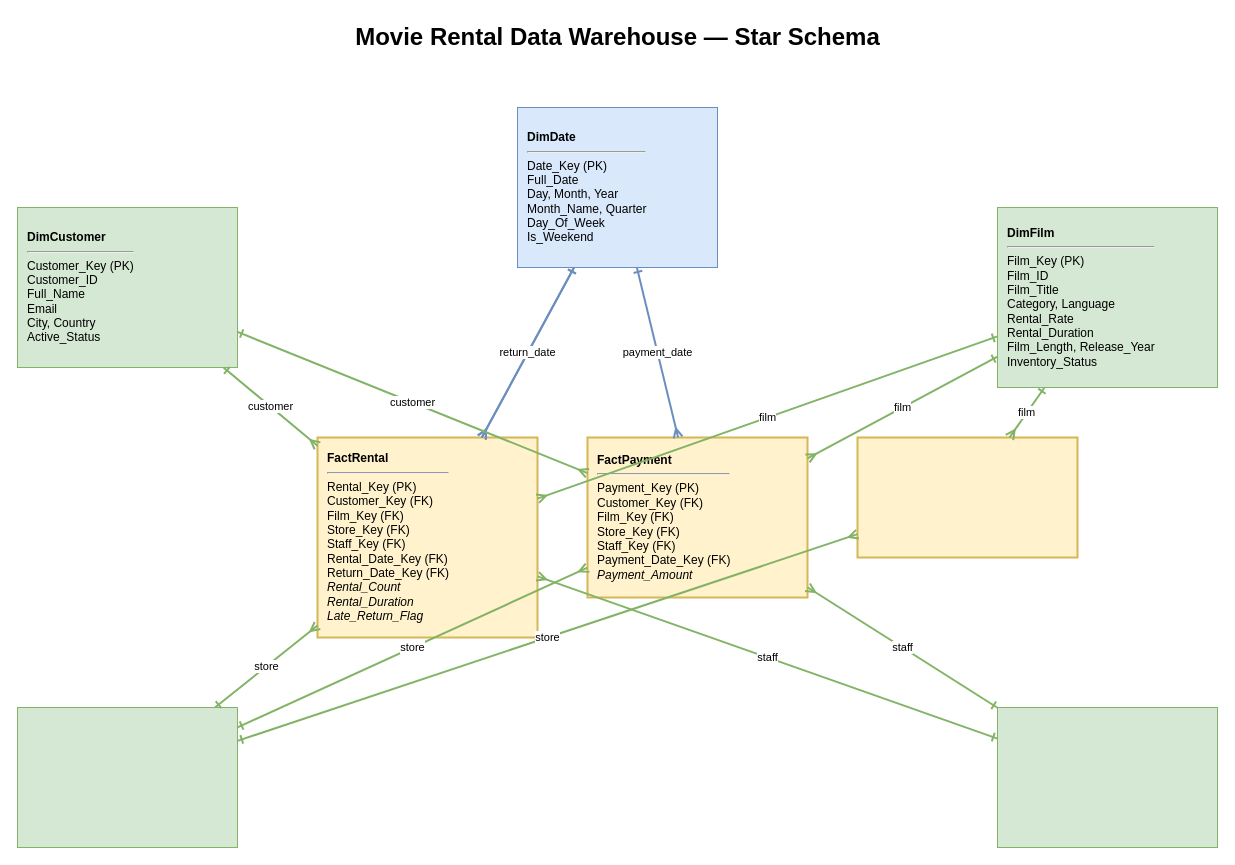
Some shapes in this 1235 by 865 pixel diagram are drawn without their labels. Here are the shapes that lost their labels. From the top down, the centre of each, then its label:
At (967,497): "FactInventory Inventory_Key (PK) Film_Key (FK) Store_Key (FK) Inventory_Count".
At (127,777): "DimStore Store_Key (PK) Store_ID Store_Manager City, Country".
At (1107,777): "DimStaff Staff_Key (PK) Staff_ID Staff_Name Store_Assignment Active_Status".
